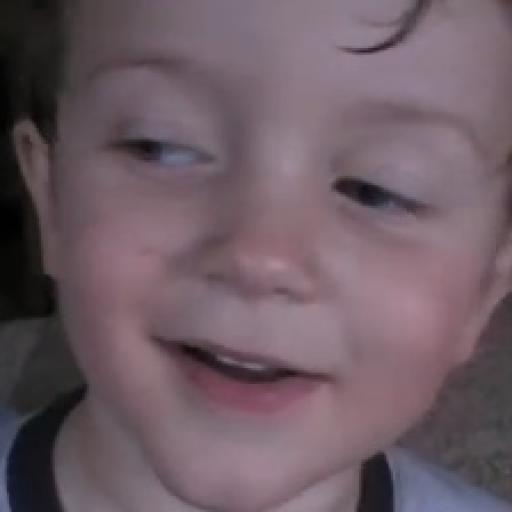Autism: (52, 18, 512, 512)
